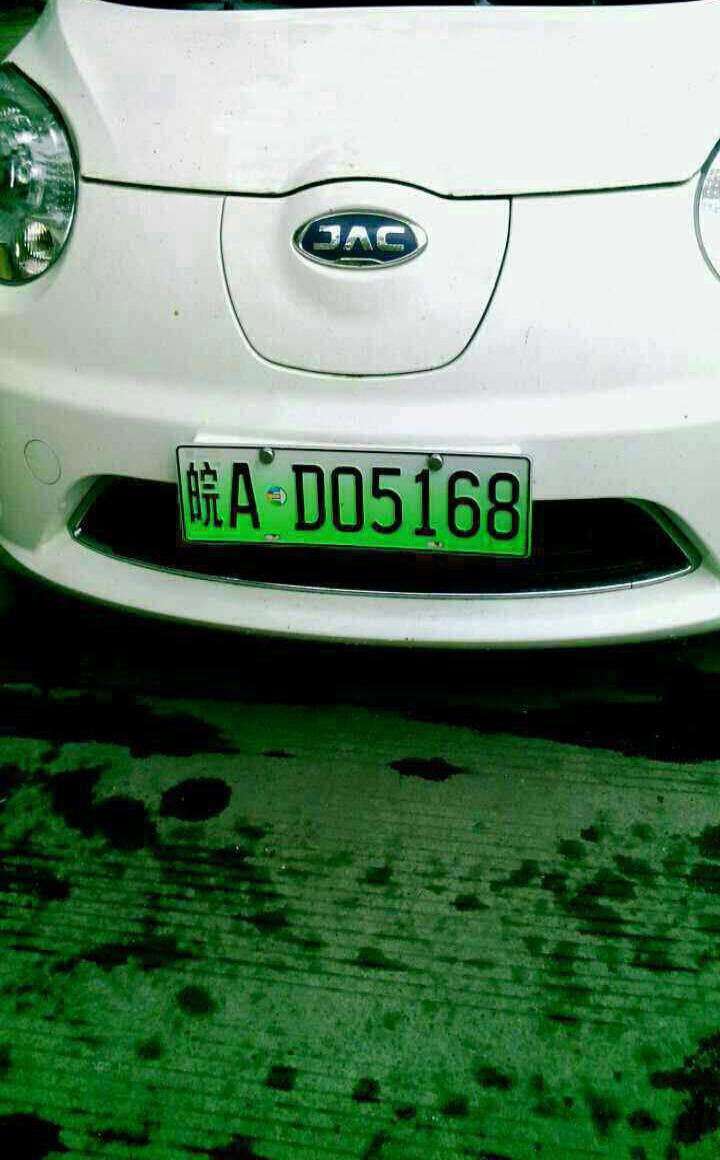car_id: (174, 447, 528, 555)
